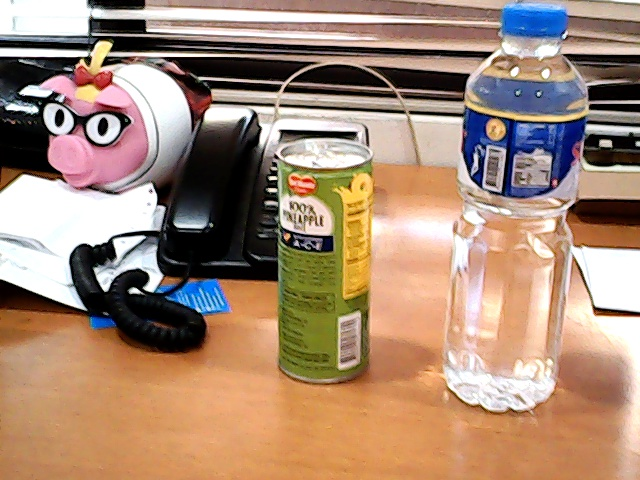Pine Juice: (266, 130, 386, 392)
Summit Water: (429, 2, 599, 427)
